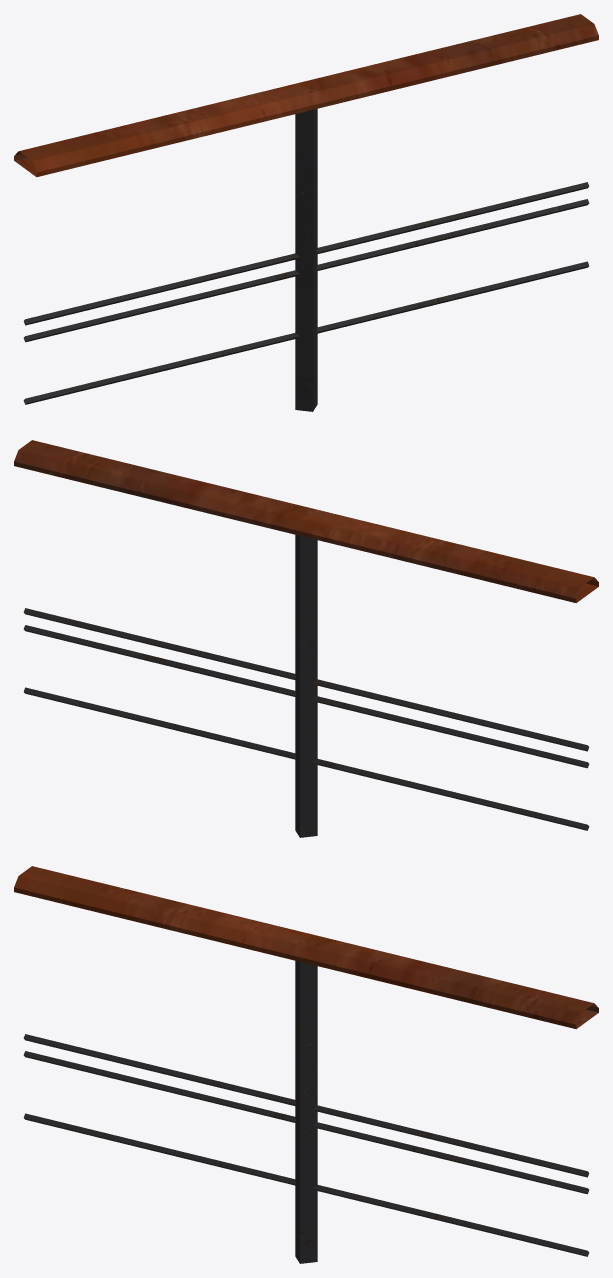
Rendered from pm-railing-02.glb.
The picture shows the model from 3 angles, top to bottom: view 1: azimuth 30°, elevation 25°; view 2: azimuth 150°, elevation 25°; view 3: azimuth 330°, elevation 25°; orthographic projection.
Visible parts, largest first — view 1: Railing_02; view 2: Railing_02; view 3: Railing_02.
Boxes of the visible parts, x1,y1,x2,y2 form: Railing_02: (14, 14, 598, 411); Railing_02: (14, 440, 598, 837); Railing_02: (14, 866, 598, 1263).
Bounding box in the file's own units: 2.6 × 1.41 × 0.1812.
2 materials, 2 textured.
